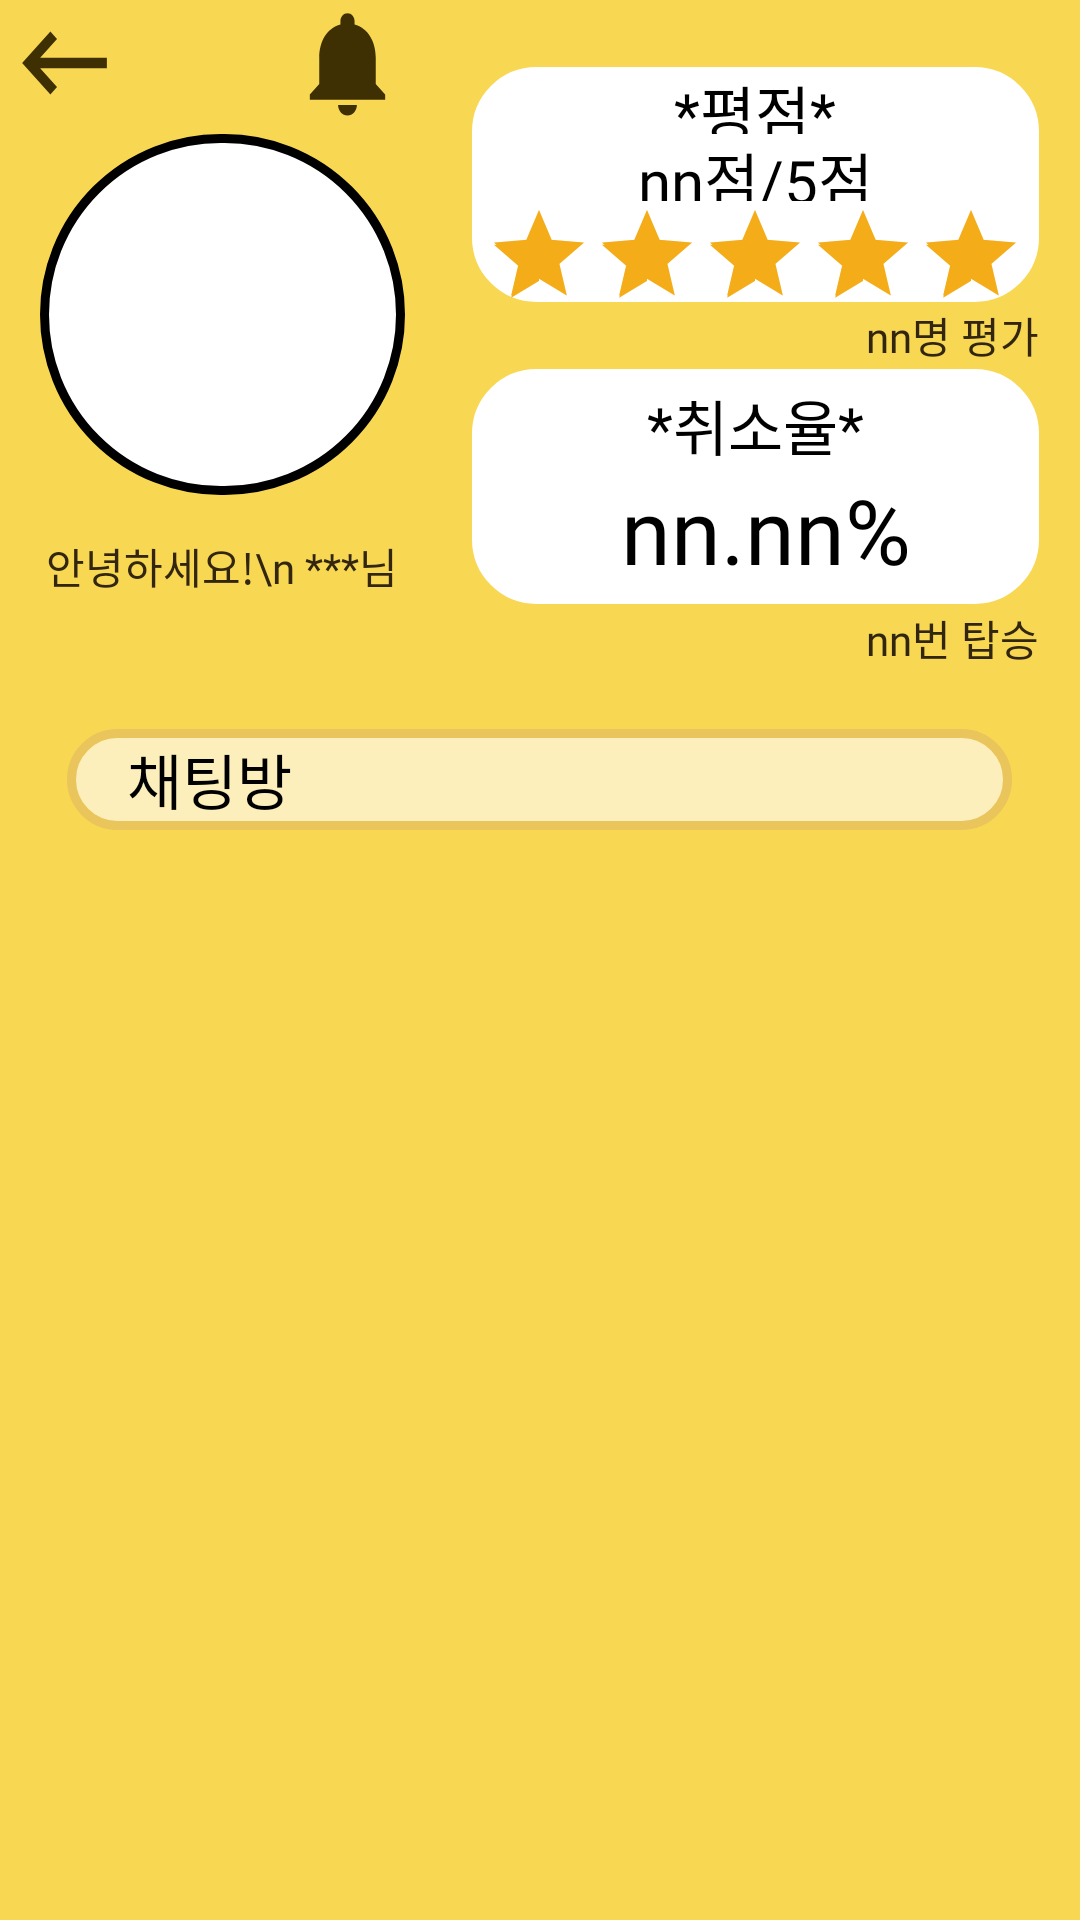

Screen size 1080*1920. Icon name, then its box in pixels as (x1, y1, x2, y2):
bell: (309, 13, 386, 116)
escape: (22, 31, 107, 95)
